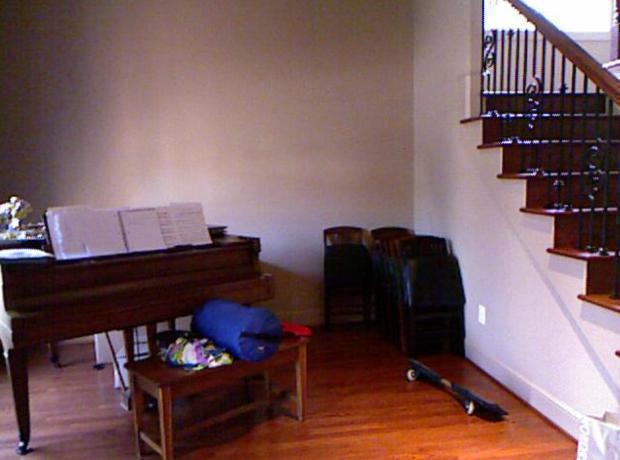Escaleras: (434, 11, 619, 429)
Otro Obstaculo: (398, 346, 513, 433)
